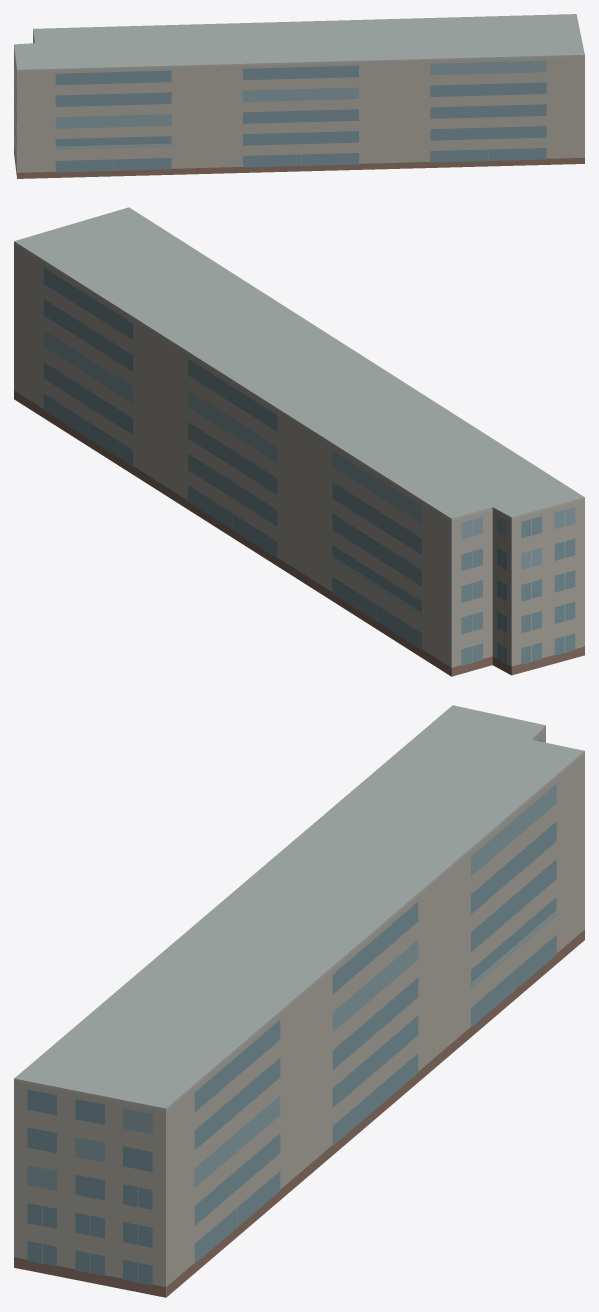
File: survey-upis-32624126.glb
3 renders of one model, top to bottom at view 1: azimuth 30°, elevation 25°; view 2: azimuth 150°, elevation 25°; view 3: azimuth 270°, elevation 25°, orthographic. The views are drawn at different scales.
Visible parts, largest first — view 1: survey-upis-32624126.tmp; view 2: survey-upis-32624126.tmp; view 3: survey-upis-32624126.tmp.
Part boxes in pixels (x1,y1,x2,y2): survey-upis-32624126.tmp: [14, 14, 584, 178]; survey-upis-32624126.tmp: [14, 207, 584, 676]; survey-upis-32624126.tmp: [14, 705, 584, 1297].
Bounding box in the file's own units: 69.75 × 15.25 × 41.72.
